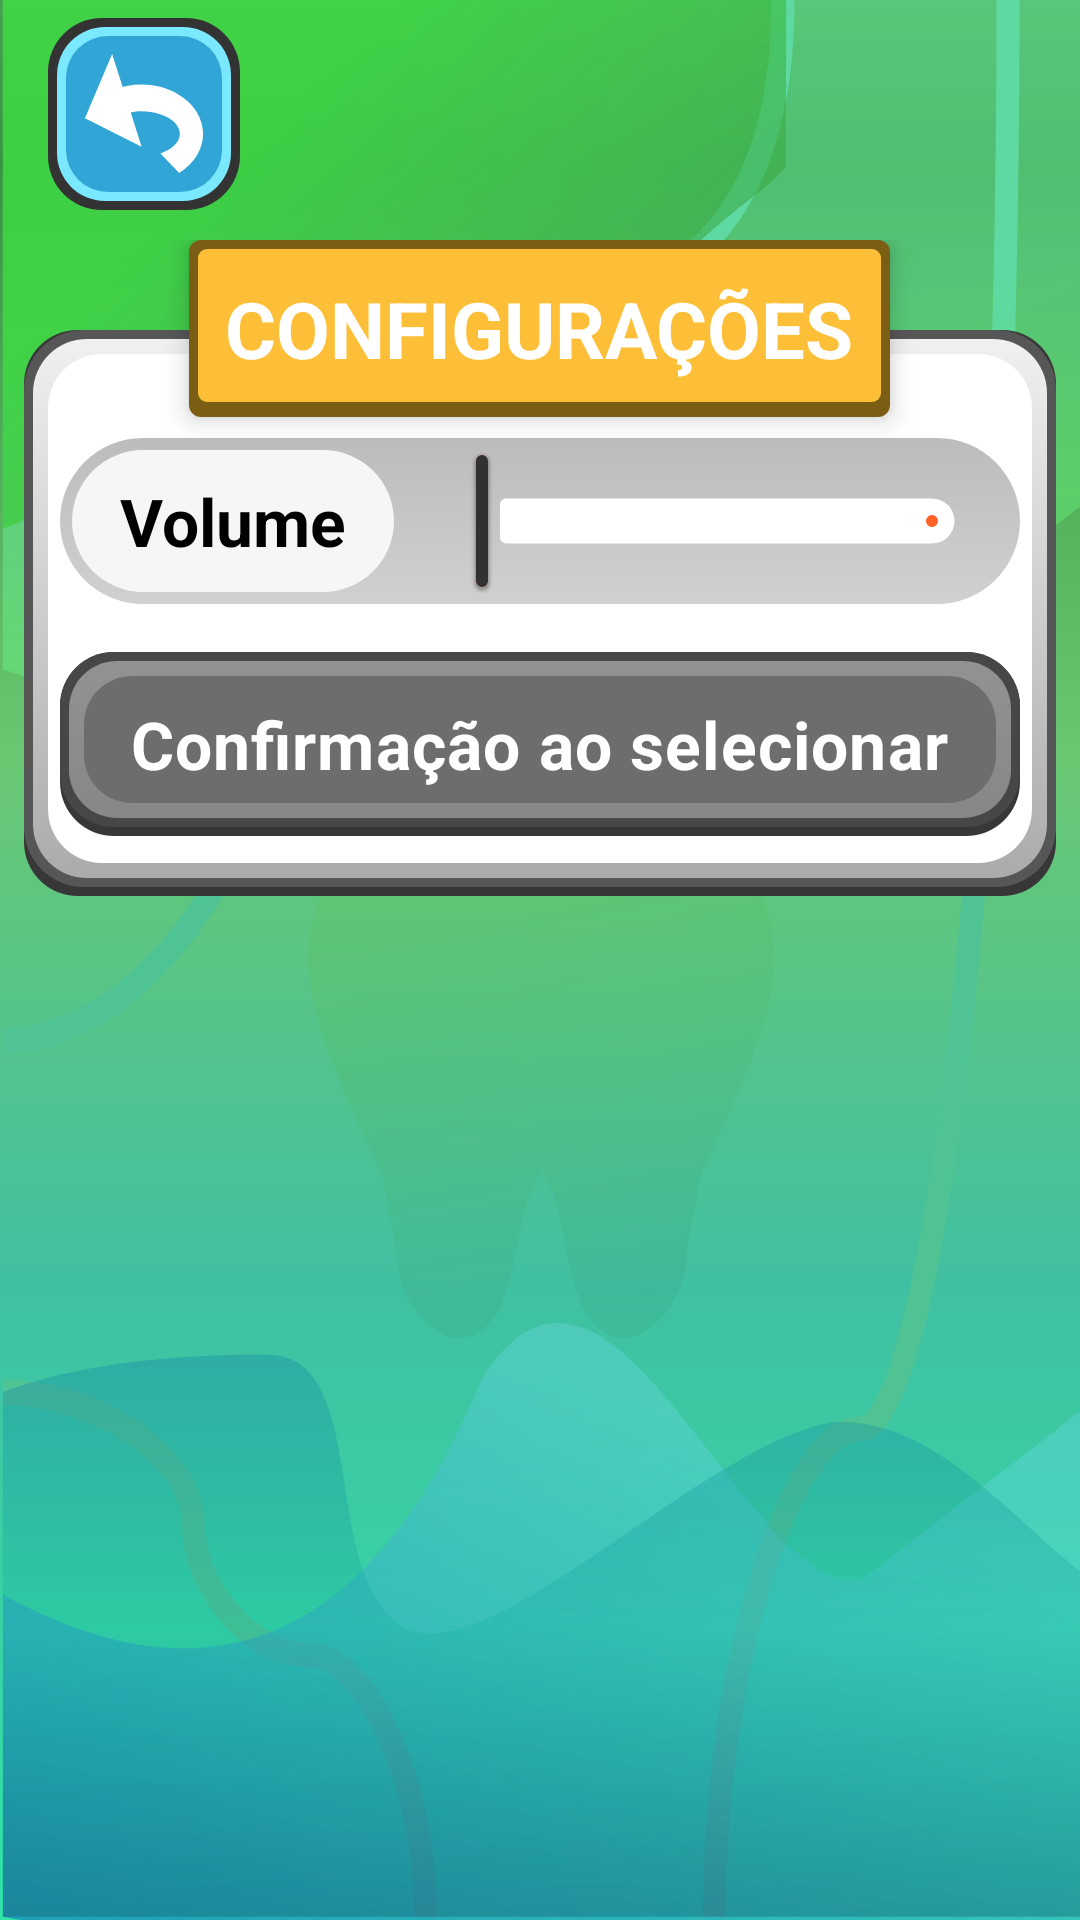

Named icons in this screenshot (1080w x 1920h) and their bounding boxes, (x1, y1, x2, y2):
return: (48, 18, 240, 210)
